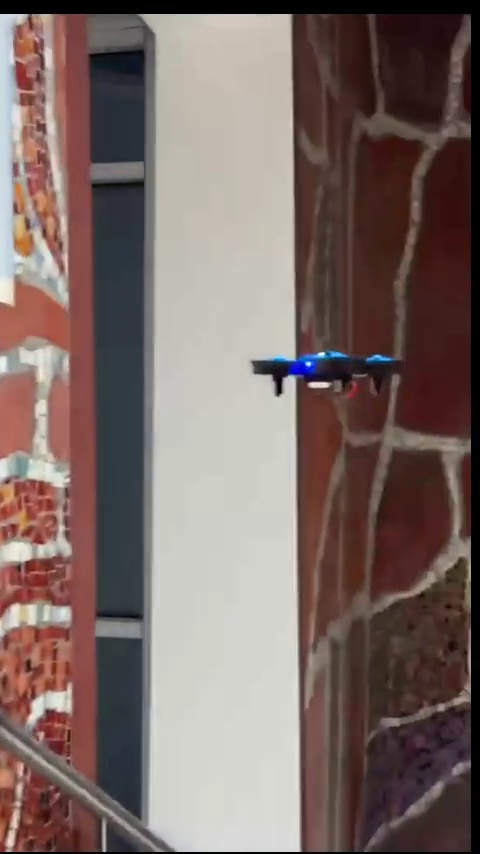drone: (255, 352, 400, 403)
